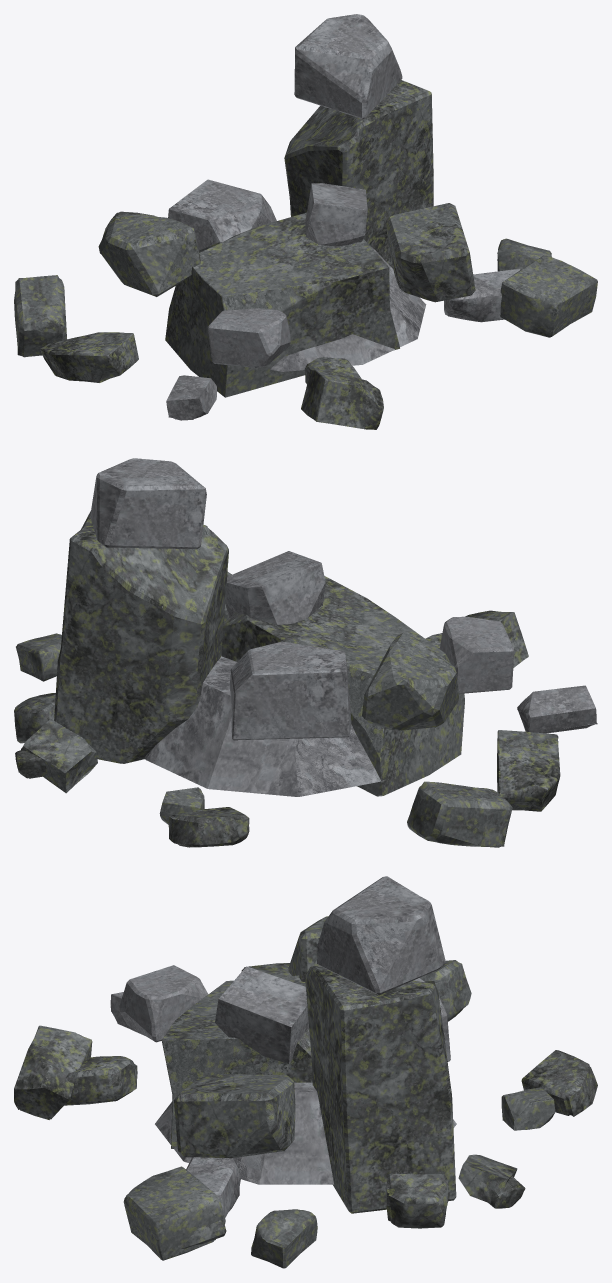
File: cima-frondiellas.glb
3 renders of one model, top to bottom at view 1: azimuth 30°, elevation 25°; view 2: azimuth 150°, elevation 25°; view 3: azimuth 270°, elevation 25°, orthographic. The views are drawn at different scales.
Parts seen in each view (by area): view 1: hito_granito_oscuro_liquen, hito_granito_oscuro, bloque2, bloque10, bloque1, bloque13, bloque0, bloque8, bloque5, bloque4; view 2: hito_granito_oscuro_liquen, hito_granito_oscuro, bloque13, bloque10, bloque6, bloque8, bloque7, bloque5, bloque11, bloque3, bloque1, bloque9; view 3: hito_granito_oscuro_liquen, hito_granito_oscuro, bloque2, bloque1, bloque11, bloque7, bloque5, bloque4, bloque3, bloque0, bloque6, bloque13 (+2 smaller).
Boxes of the visible parts, x1,y1,x2,y2 form: hito_granito_oscuro_liquen: (98, 80, 475, 397); hito_granito_oscuro: (167, 14, 426, 371); bloque2: (500, 255, 597, 337); bloque10: (40, 332, 138, 382); bloque1: (301, 369, 383, 429); bloque13: (14, 275, 66, 357); bloque0: (444, 269, 520, 322); bloque8: (166, 375, 216, 420); bloque5: (497, 238, 551, 271); bloque4: (304, 357, 361, 383); hito_granito_oscuro_liquen: (54, 511, 464, 796); hito_granito_oscuro: (90, 458, 514, 796); bloque13: (407, 781, 512, 847); bloque10: (497, 730, 560, 811); bloque6: (21, 719, 97, 793); bloque8: (517, 685, 597, 733); bloque7: (168, 807, 249, 847); bloque5: (16, 633, 61, 681); bloque11: (14, 693, 55, 743); bloque3: (159, 787, 204, 824); bloque1: (465, 610, 528, 667); bloque9: (15, 750, 56, 778); hito_granito_oscuro_liquen: (161, 916, 456, 1213); hito_granito_oscuro: (119, 876, 456, 1184); bloque2: (123, 1166, 225, 1260); bloque1: (14, 1025, 92, 1119); bloque11: (386, 1173, 448, 1228); bloque7: (521, 1050, 597, 1116); bloque5: (251, 1209, 317, 1268); bloque4: (64, 1056, 137, 1105); bloque3: (501, 1087, 555, 1130); bloque0: (186, 1157, 240, 1217); bloque6: (458, 1154, 517, 1203); bloque13: (420, 960, 471, 1021).
Size of the model in its own units: 4.27 by 2.16 by 3.86.
2 materials, 2 textured.
